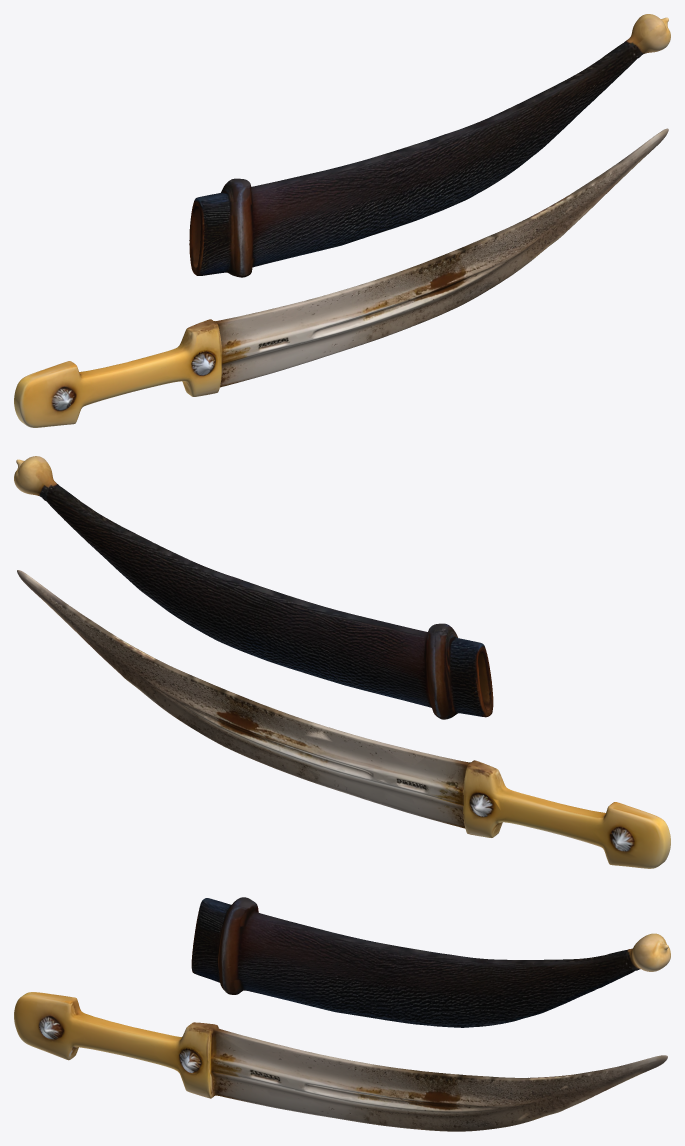
Rendered from 016-izognutyy-kinzhal-v-nozhnah.glb.
3 renders of one model, top to bottom at view 1: azimuth 30°, elevation 25°; view 2: azimuth 150°, elevation 25°; view 3: azimuth 330°, elevation 25°, orthographic.
Visible parts, largest first — view 1: node_0; view 2: node_0; view 3: node_0.
Part boxes in pixels (left/top/right/bottom): node_0: left=14, top=14, right=670, bottom=427; node_0: left=14, top=456, right=670, bottom=868; node_0: left=14, top=897, right=670, bottom=1131.
Size of the model in its own units: 1.12 by 0.44 by 0.076.
Materials: 1 (1 with a texture image).
